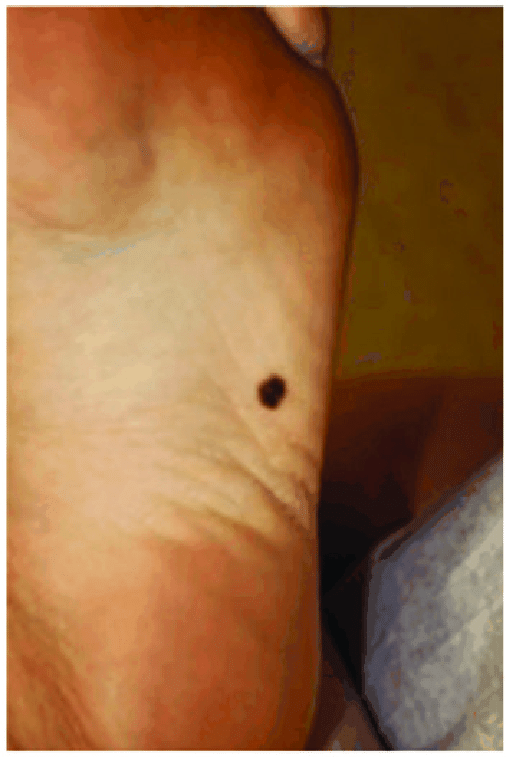melanoma: (182, 308, 392, 490)
